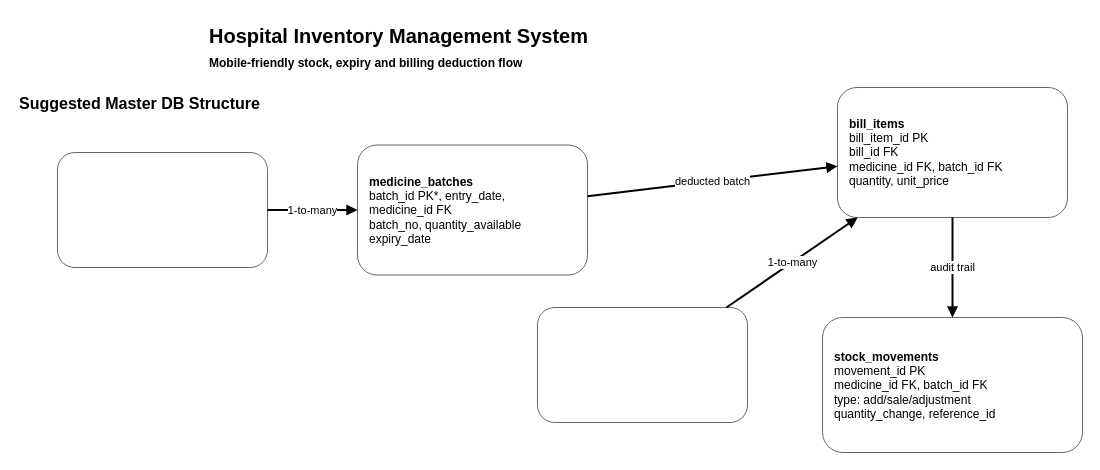
This 1100x470 diagram has some shape labels left out. Each missing label, with the box of its shape:
bills bill_id PK bill_no created_by total_amount, created_at: (536, 306, 748, 422)
medicines medicine_id PK name, strength, category* unit_price, active_flag: (56, 152, 268, 268)
